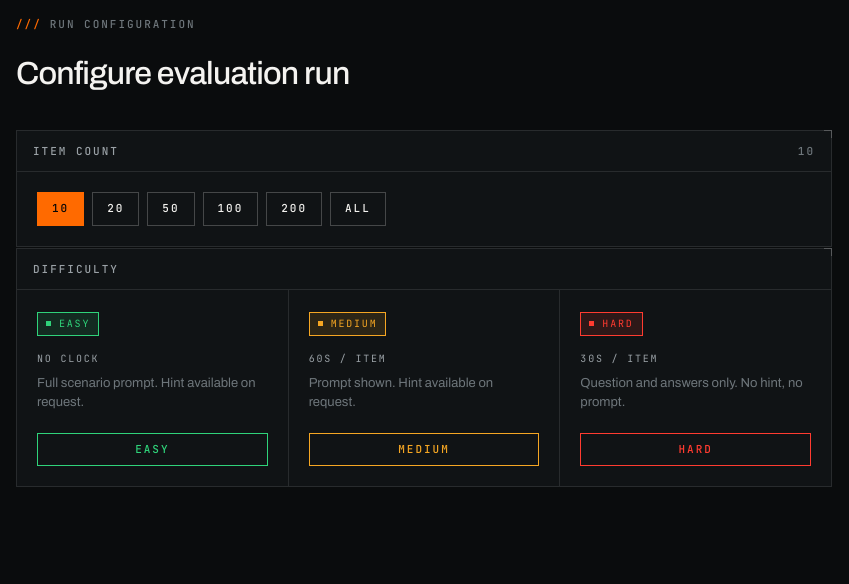
Scenario: QuizPage › skips to the next question without requiring an answer
Step 1. Click the button "EASY" → (152, 449), box [37,433,268,466]
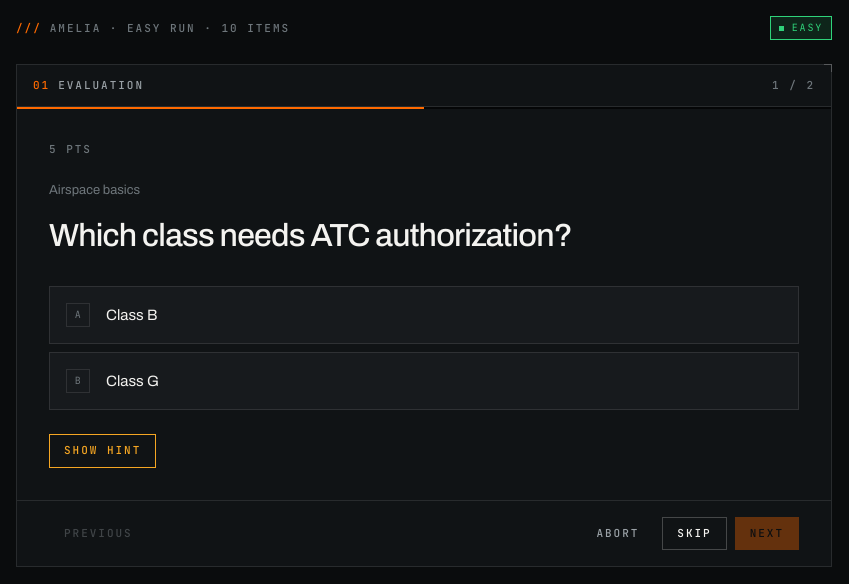
Check: the text "Which class needs ATC authorization?" is shown, box [49,218,572,252]
Step 2. Click the button "Skip" → (694, 533), box [662,517,727,550]
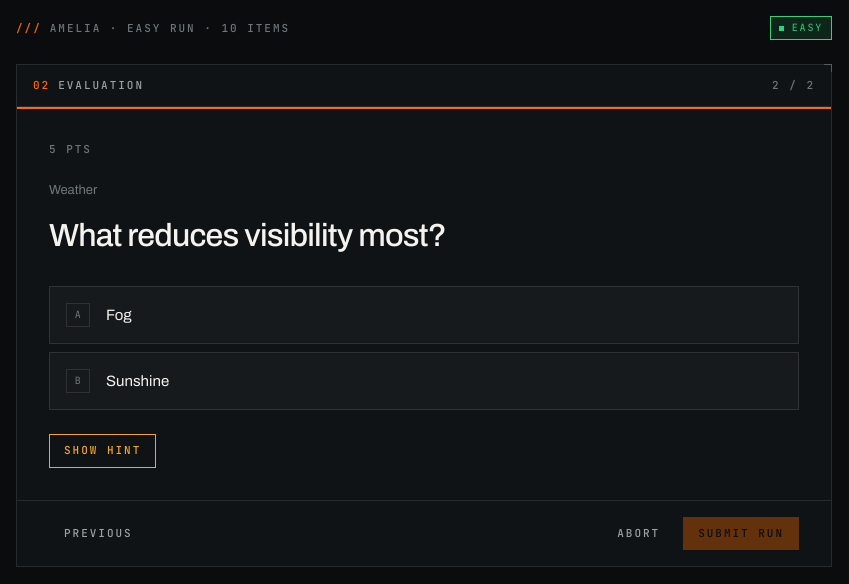
Check: the text "What reduces visibility most?" is shown, box [49,218,446,252]
